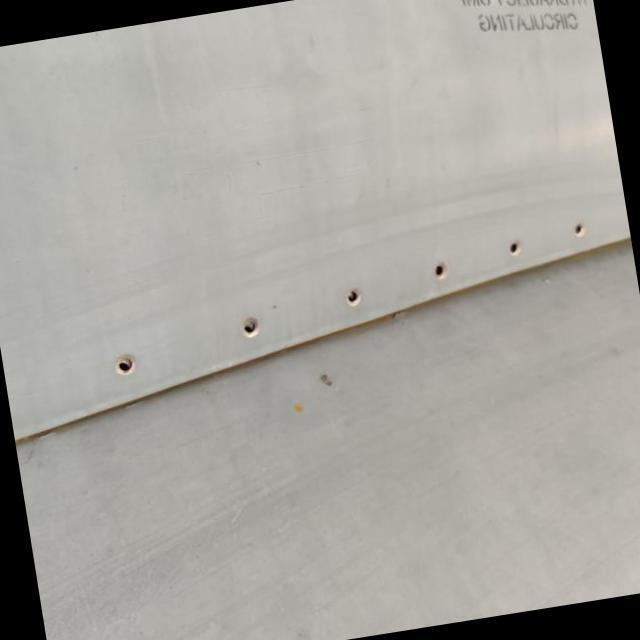Fastener Damage: (92, 330, 154, 392), (222, 296, 280, 354), (488, 222, 538, 271), (330, 273, 379, 322), (415, 245, 464, 292), (562, 210, 598, 247)
